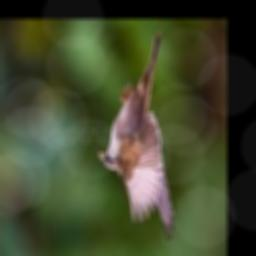Sparrow: (97, 32, 174, 242)
